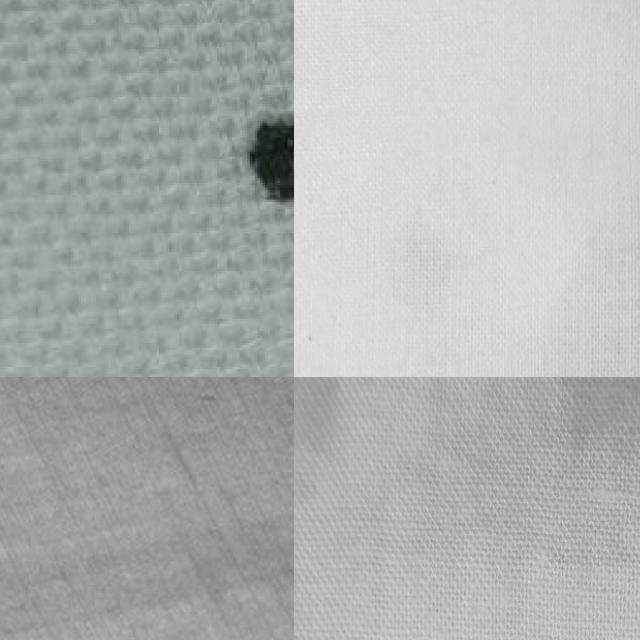Thread_other: (211, 98, 294, 234)
